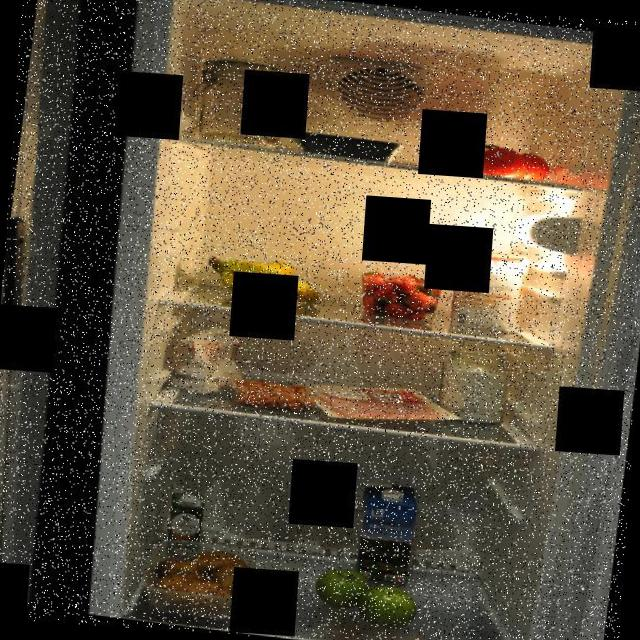Carne cerdo: (298, 374, 467, 433)
Gambas/Langostinos: (232, 378, 318, 414)
Leche: (351, 480, 426, 587)
Manzana: (312, 560, 432, 634)
Patata: (142, 534, 260, 625)
Plátano: (202, 250, 330, 306)
Tomate: (422, 126, 559, 186)
